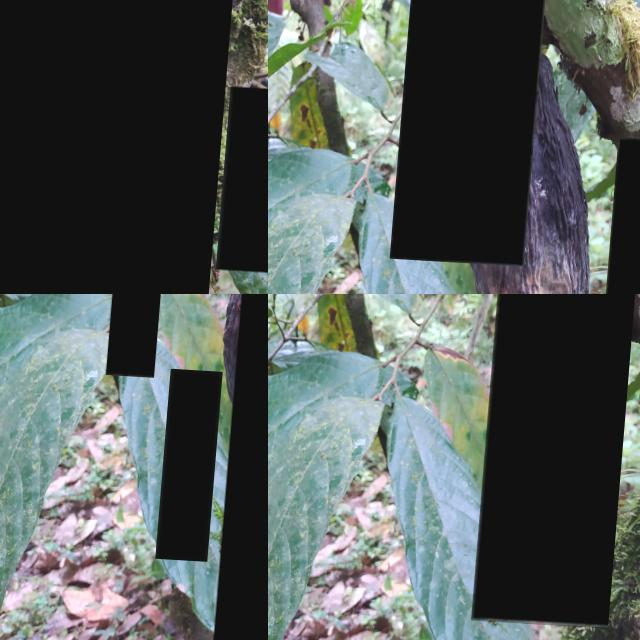Fitoftora: (480, 294, 640, 623), (222, 80, 268, 265)
Monilia: (0, 0, 235, 294)
Sana: (395, 0, 552, 262), (164, 366, 228, 559), (609, 132, 640, 294), (111, 294, 167, 375)
